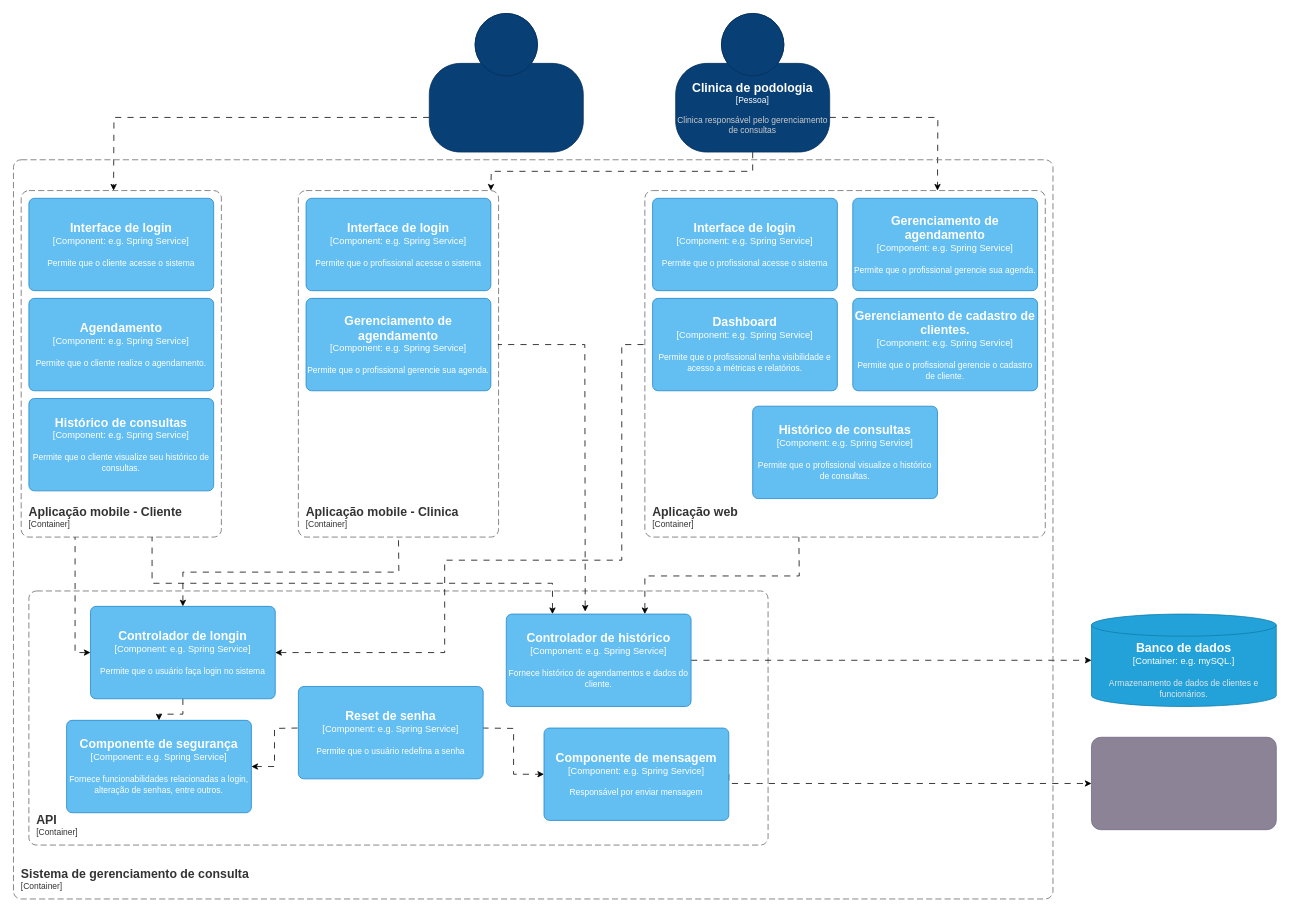
This 1290x912 diagram has some shape labels left out. The shapes that lost their labels are listed below. From the top down, each one's centre as x and y in pixels, then its label:
At point 506,82: "Cliente [Pessoa] Paciente da clinica".
At point 1183,783: "WhatsApp [Software System] Responsável pelo envio de tokens".
